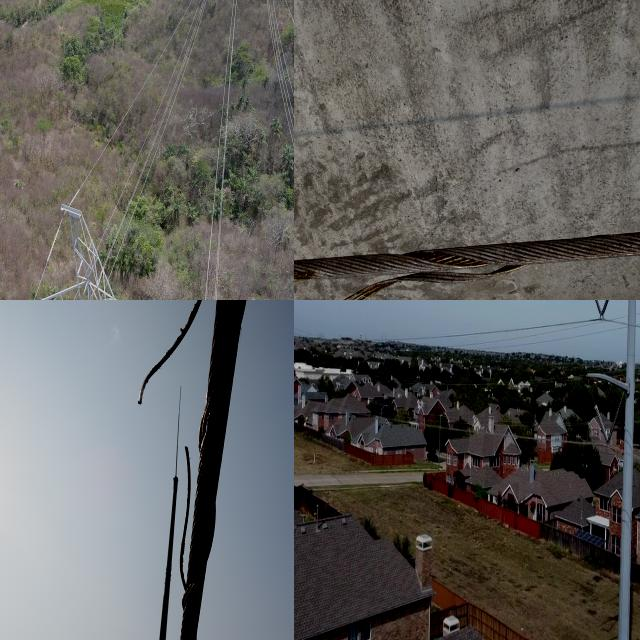杆塔: (5, 177, 294, 300)
正常绝缘子: (589, 389, 611, 450), (602, 393, 623, 454), (594, 300, 613, 331), (591, 300, 607, 326)
电缆破损: (127, 300, 257, 636), (294, 0, 640, 103)
